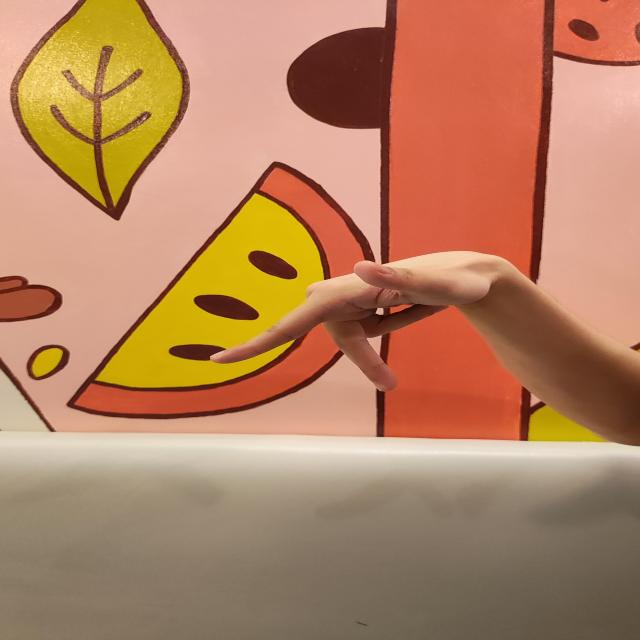P: (209, 249, 497, 393)
